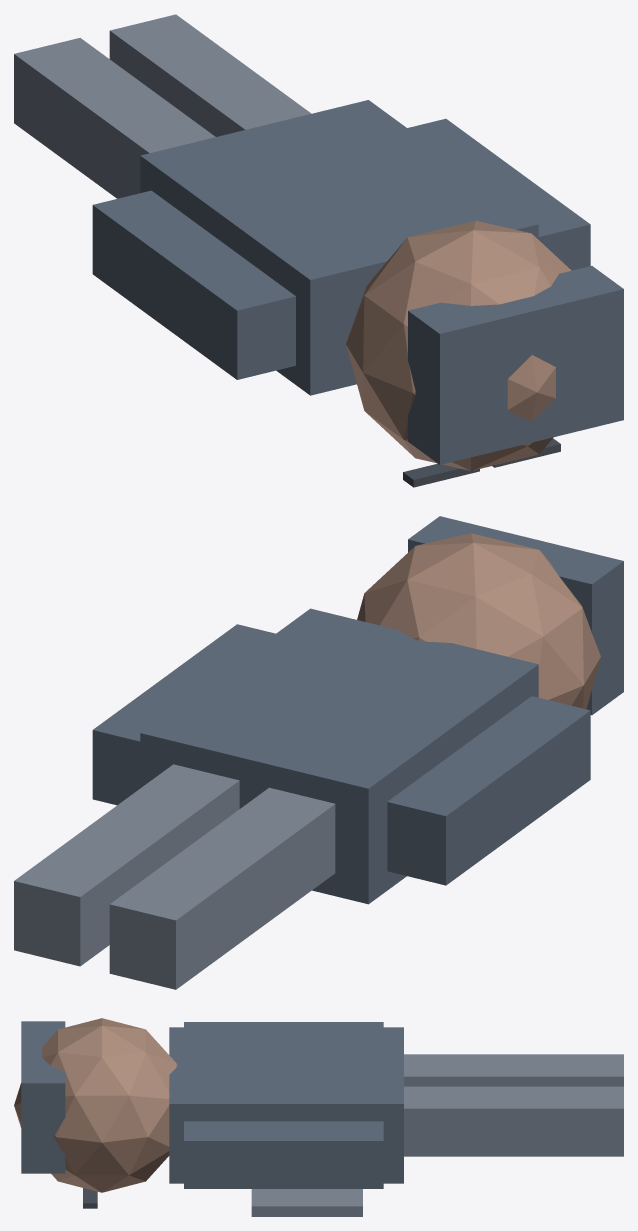
The model's file is legal_variant_4.glb.
3 views of the same model, one above another, from view 1: azimuth 30°, elevation 25°; view 2: azimuth 150°, elevation 25°; view 3: azimuth 270°, elevation 25° (orthographic). The views are drawn at different scales.
Parts seen in each view (by area): view 1: torso_2, hair_6, head_5, arm_l_3, leg_l_0, leg_r_1, arm_r_4, glasses_l_7; view 2: torso_2, leg_l_0, head_5, arm_l_3, leg_r_1, arm_r_4, hair_6; view 3: torso_2, head_5, leg_r_1, arm_r_4, leg_l_0, hair_6, tablet_9, arm_l_3, glasses_r_8.
Part boxes in pixels (left/top/right/bottom): torso_2: left=140, top=100, right=538, bottom=395; hair_6: left=408, top=266, right=623, bottom=464; head_5: left=346, top=220, right=571, bottom=470; arm_l_3: left=92, top=190, right=295, bottom=379; leg_l_0: left=14, top=38, right=215, bottom=198; leg_r_1: left=109, top=14, right=311, bottom=136; arm_r_4: left=407, top=118, right=590, bottom=270; glasses_l_7: left=403, top=463, right=479, bottom=487; torso_2: left=140, top=608, right=538, bottom=904; leg_l_0: left=109, top=787, right=335, bottom=989; head_5: left=357, top=533, right=600, bottom=709; arm_l_3: left=387, top=696, right=590, bottom=885; leg_r_1: left=14, top=764, right=239, bottom=966; arm_r_4: left=92, top=624, right=275, bottom=805; hair_6: left=408, top=516, right=623, bottom=715; torso_2: left=169, top=1027, right=403, bottom=1183; head_5: left=14, top=1018, right=177, bottom=1192; leg_r_1: left=404, top=1086, right=623, bottom=1156; arm_r_4: left=184, top=1121, right=383, bottom=1188; leg_l_0: left=404, top=1054, right=623, bottom=1086; hair_6: left=21, top=1021, right=65, bottom=1173; tablet_9: left=251, top=1189, right=362, bottom=1216; arm_l_3: left=184, top=1022, right=383, bottom=1027; glasses_r_8: left=83, top=1188, right=97, bottom=1208.
Bounding box in the file's own units: 0.96 × 0.6 × 2.08.
